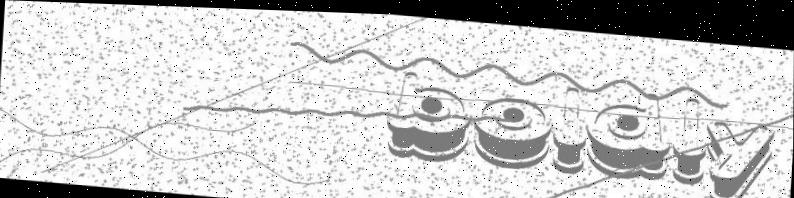b: (383, 66, 474, 163)
d: (584, 82, 671, 177)
l: (549, 79, 591, 172), (670, 90, 710, 182)
o: (470, 90, 554, 167)
y: (699, 107, 775, 198)
